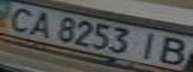2: (72, 18, 96, 48)
3: (109, 25, 136, 56)
5: (90, 20, 115, 53)
8: (48, 15, 78, 44)
A: (24, 9, 60, 38)
B: (154, 34, 193, 66)
C: (0, 4, 39, 33)
I: (133, 29, 166, 62)
